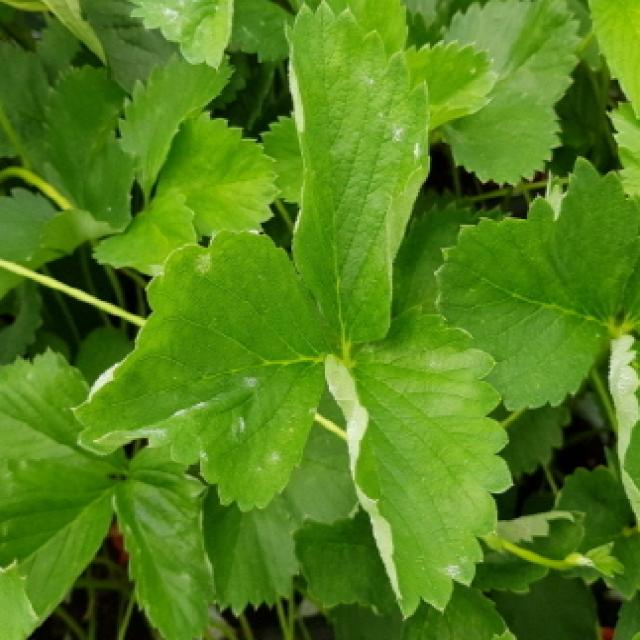Powdery Mildew Leaf: (70, 227, 341, 514), (321, 301, 515, 622), (281, 0, 431, 347), (0, 346, 129, 622), (123, 0, 236, 74)
